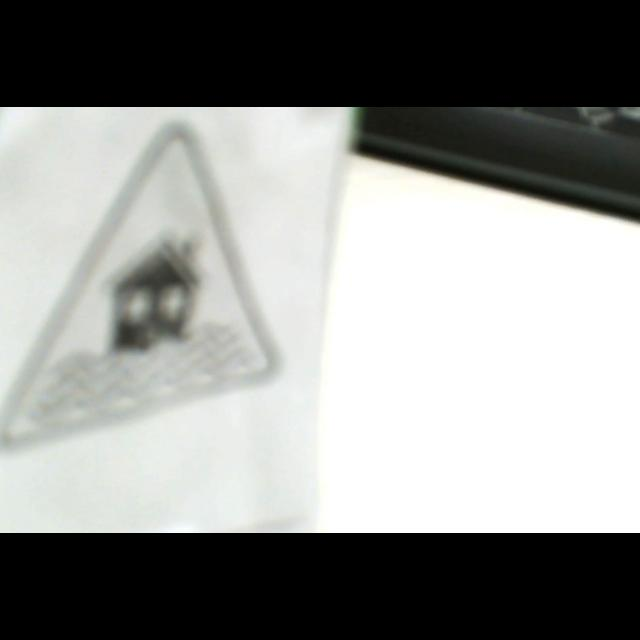Tsunami: (0, 121, 271, 442)
